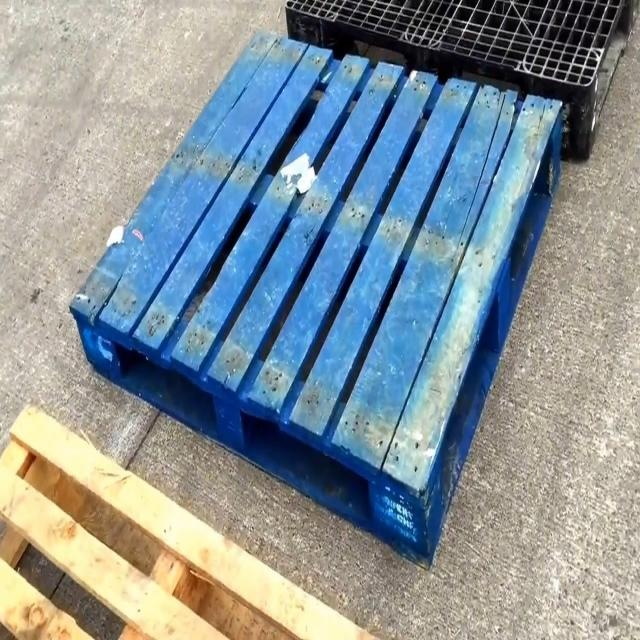Palette: (60, 21, 569, 585), (0, 400, 380, 640), (279, 0, 640, 173)
